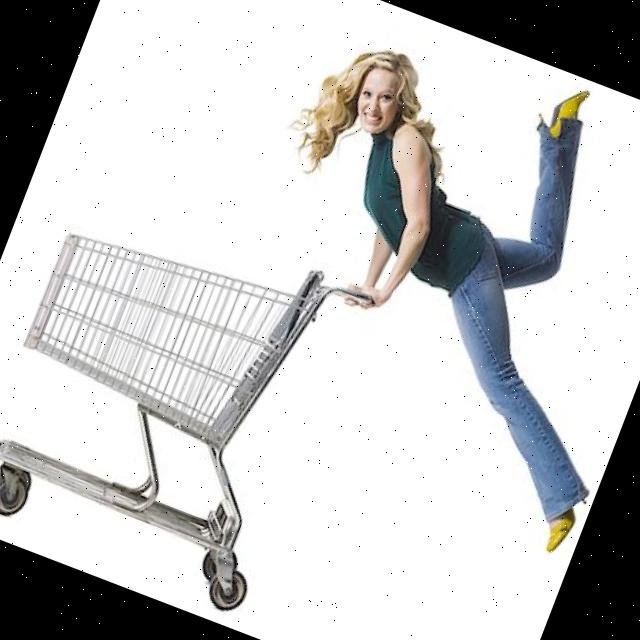Person: (179, 0, 640, 559)
